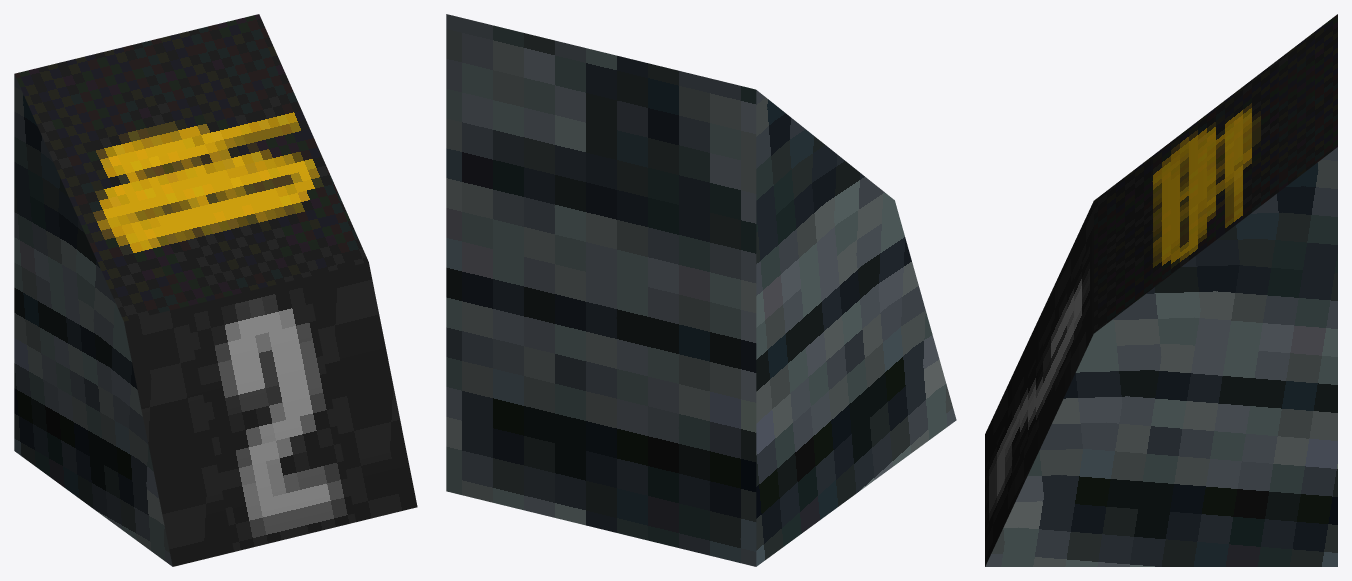
3 views of the same model, side by side, from view 1: azimuth 30°, elevation 25°; view 2: azimuth 150°, elevation 25°; view 3: azimuth 270°, elevation 25° (orthographic). The views are drawn at different scales.
Visible parts, largest first — view 1: Conft_obj_027; view 2: Conft_obj_027; view 3: Conft_obj_027.
Boxes of the visible parts, x1,y1,x2,y2 form: Conft_obj_027: (14,14,417,566); Conft_obj_027: (446,14,956,566); Conft_obj_027: (985,14,1337,566).
Size of the model in its own units: 0.5996 by 0.8828 by 0.6719.
1 material, 1 textured.
